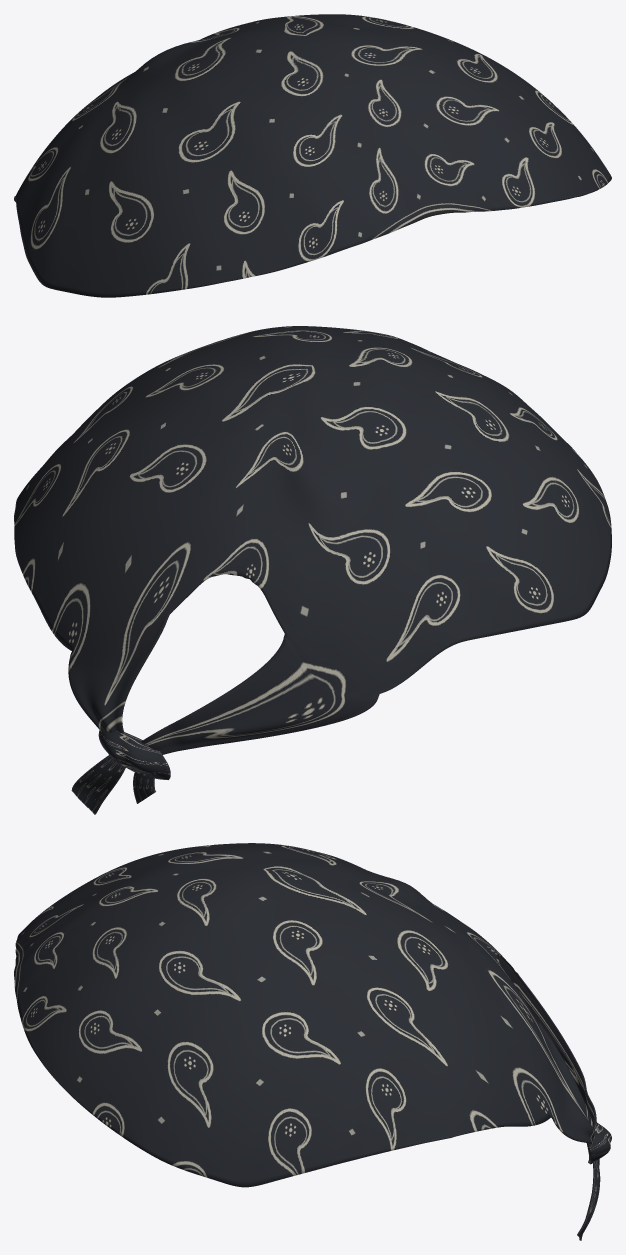
File: ponytail-bandana.glb
3 renders of one model, top to bottom at view 1: azimuth 30°, elevation 25°; view 2: azimuth 150°, elevation 25°; view 3: azimuth 270°, elevation 25°, orthographic.
Visible parts, largest first — view 1: Bandana / continuous crown and gathers; view 2: Bandana / continuous crown and gathers, Bandana / under-tail knot, Bandana / hanging end 1; view 3: Bandana / continuous crown and gathers, Bandana / under-tail knot, Bandana / hanging end 1.
Boxes of the visible parts, x1,y1,x2,y2 form: Bandana / continuous crown and gathers: [14, 14, 611, 297]; Bandana / continuous crown and gathers: [14, 326, 611, 754]; Bandana / under-tail knot: [98, 730, 170, 779]; Bandana / hanging end 1: [71, 755, 125, 814]; Bandana / continuous crown and gathers: [14, 843, 596, 1187]; Bandana / under-tail knot: [586, 1120, 611, 1164]; Bandana / hanging end 1: [577, 1160, 600, 1240].
Bounding box in the file's own units: 0.7305 × 0.4458 × 0.7008.
Materials: 1 (1 with a texture image).
